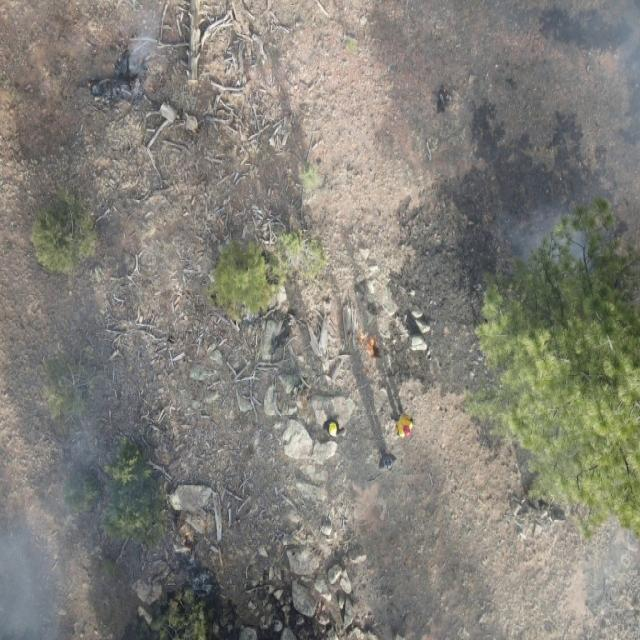fire: (352, 326, 384, 376), (178, 524, 195, 548), (84, 76, 95, 92)
smoke: (0, 397, 113, 640), (557, 0, 640, 124), (500, 197, 592, 269), (99, 15, 169, 103)
